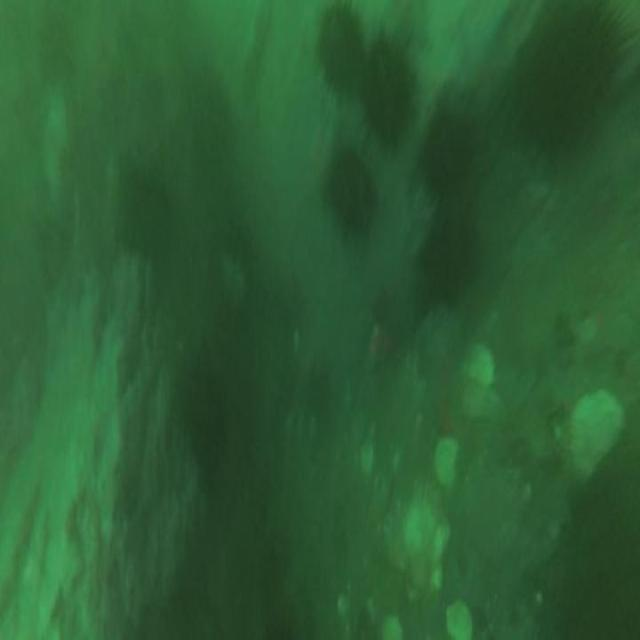echinus: (516, 3, 620, 158), (183, 365, 228, 463), (425, 209, 475, 297), (424, 109, 474, 196), (367, 44, 412, 134), (316, 8, 362, 95), (121, 178, 170, 258), (327, 148, 371, 234)
scallop: (385, 479, 450, 599), (567, 391, 625, 484)
